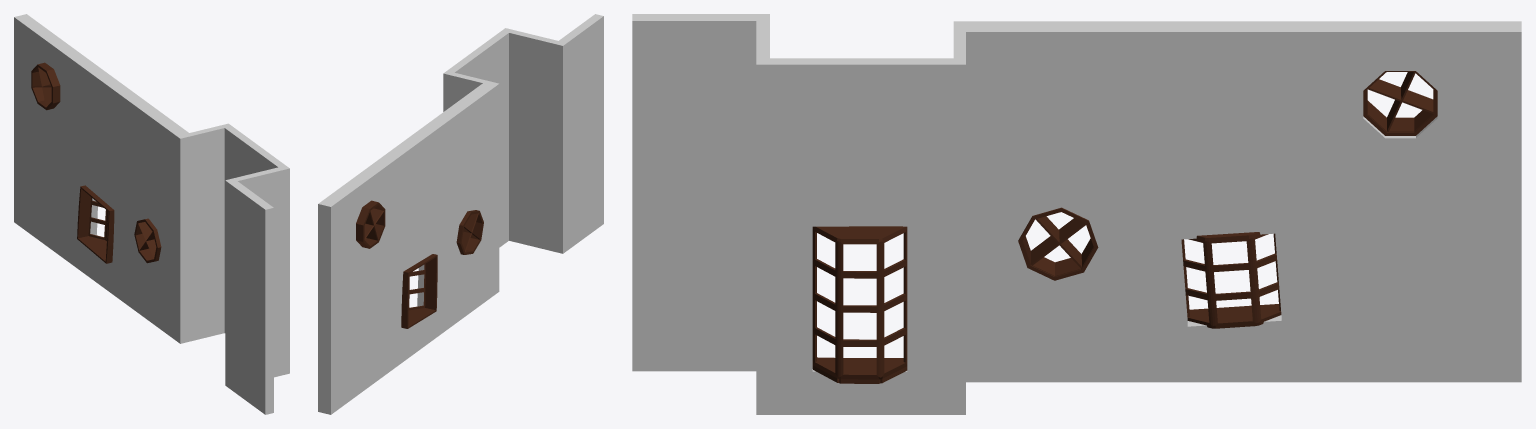
File: WallWithWindows 5.glb
3 views of the same model, side by side, from view 1: azimuth 30°, elevation 25°; view 2: azimuth 150°, elevation 25°; view 3: azimuth 270°, elevation 25° (orthographic). The views are drawn at different scales.
Parts seen in each view (by area): view 1: Cube.015, Cylinder.007, Cylinder.004, Cylinder.006; view 2: Cube.015, Cylinder.007, Cylinder.004, Cylinder.006; view 3: Cube.015, Cylinder.002, Cylinder.007, Cylinder.006, Cylinder.004.
Part boxes in pixels (bbox=[...]): Cube.015: bbox=[14, 14, 289, 414]; Cylinder.007: bbox=[77, 185, 114, 263]; Cylinder.004: bbox=[31, 62, 60, 110]; Cylinder.006: bbox=[134, 218, 161, 263]; Cube.015: bbox=[318, 14, 603, 414]; Cylinder.007: bbox=[401, 254, 437, 328]; Cylinder.004: bbox=[356, 200, 385, 248]; Cylinder.006: bbox=[456, 210, 483, 254]; Cube.015: bbox=[632, 14, 1521, 414]; Cylinder.002: bbox=[812, 226, 907, 383]; Cylinder.007: bbox=[1181, 232, 1281, 328]; Cylinder.006: bbox=[1018, 207, 1098, 280]; Cylinder.004: bbox=[1363, 71, 1437, 135].
Bounding box in the file's own units: 3.13 × 8.03 × 18.47.
